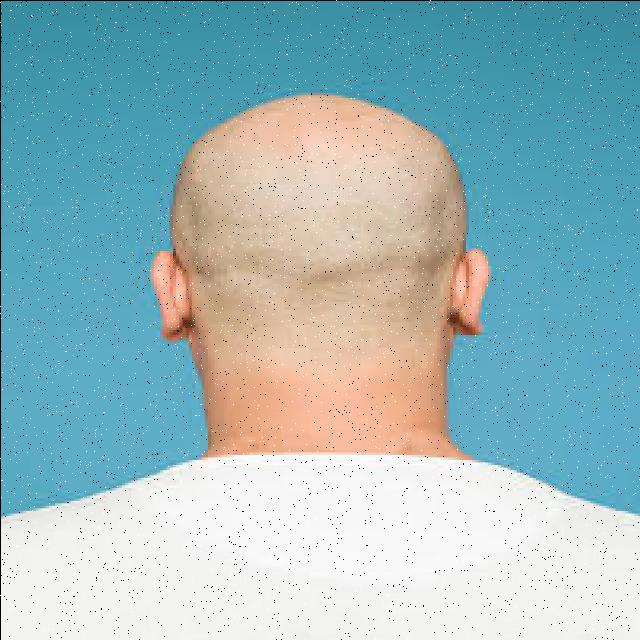Non_Helmet: (115, 69, 535, 382)
